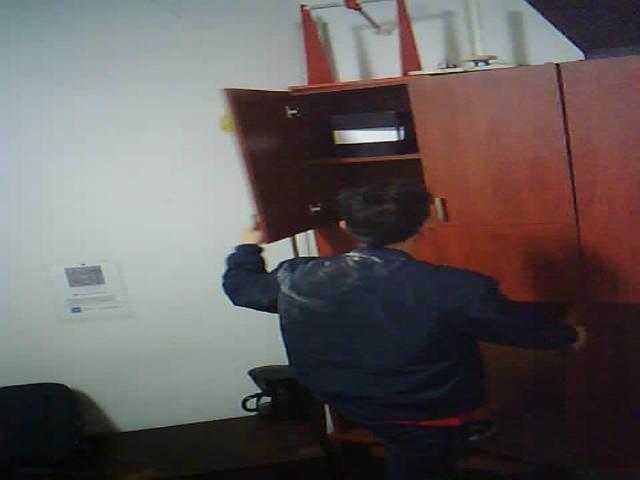person: (210, 153, 606, 480)
